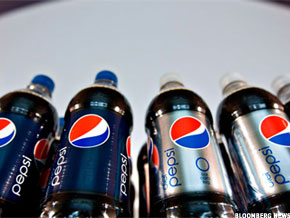pepsi: (67, 113, 110, 147), (69, 113, 110, 147), (168, 115, 209, 149), (258, 114, 289, 146), (0, 117, 16, 146)
